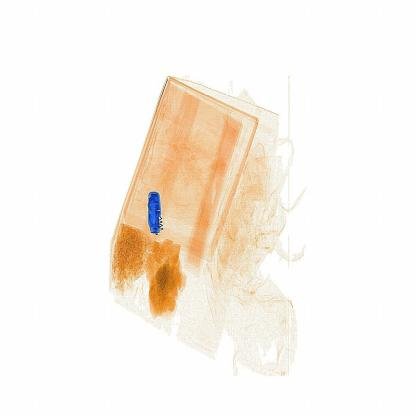scissors: (142, 181, 174, 240)
